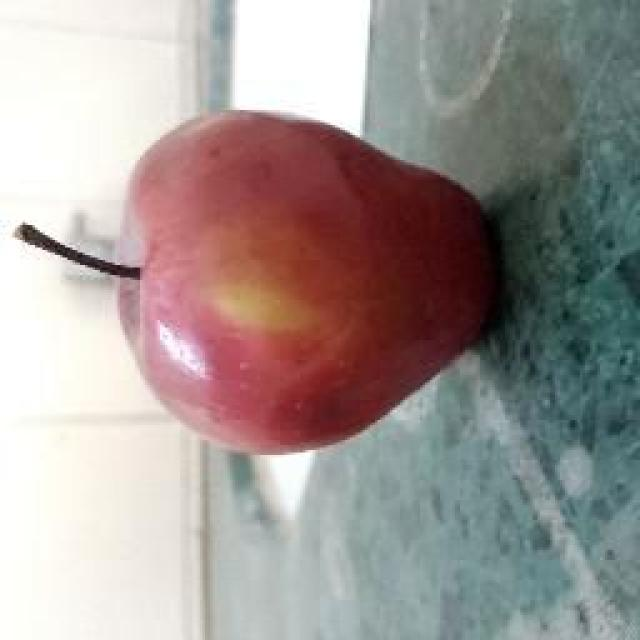Good_Apple: (25, 110, 505, 458)
